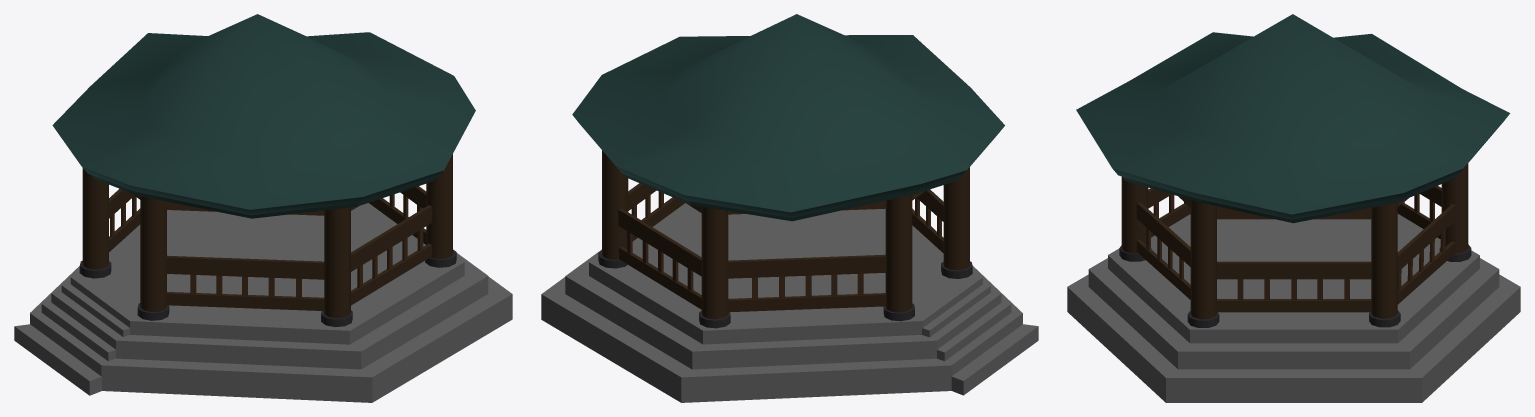
The model's file is alcove020_2.fbx.
3 views of the same model, side by side, from view 1: azimuth 30°, elevation 25°; view 2: azimuth 150°, elevation 25°; view 3: azimuth 270°, elevation 25° (orthographic). The views are drawn at different scales.
Visible parts, largest first — view 1: alcove020_2; view 2: alcove020_2; view 3: alcove020_2.
Boxes of the visible parts, x1,y1,x2,y2 form: alcove020_2: [14, 14, 512, 402]; alcove020_2: [541, 14, 1038, 402]; alcove020_2: [1067, 14, 1520, 402].
Size of the model in its own units: 1501 by 1089 by 1501.
